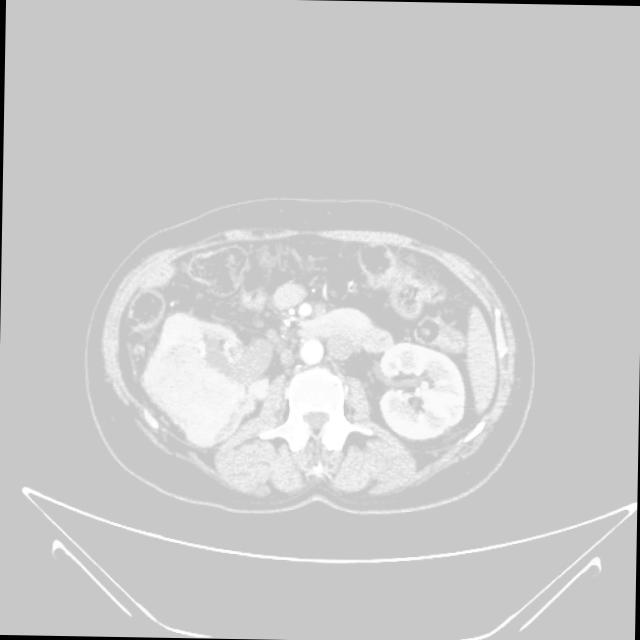TUMOR: (92, 284, 460, 452)
